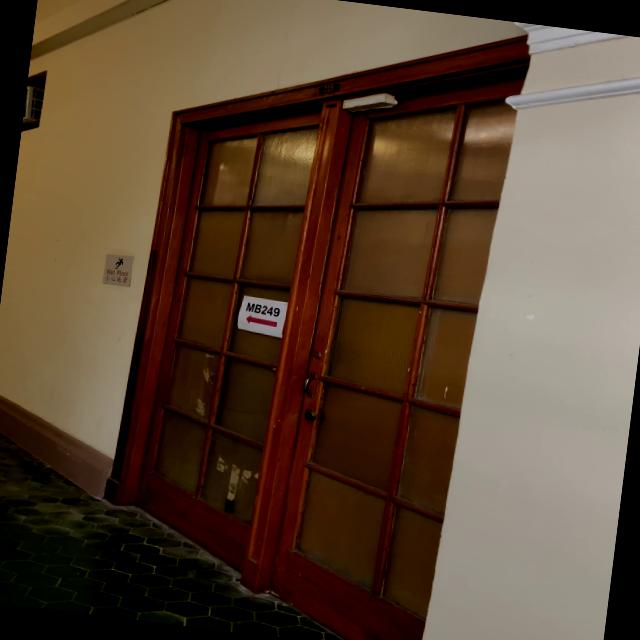room228: (317, 80, 341, 98)
